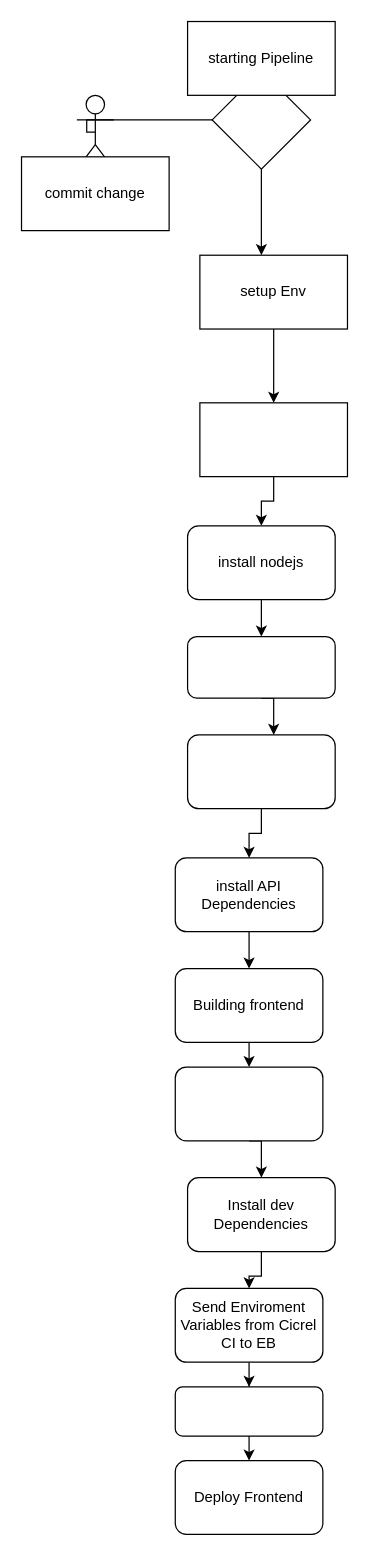
Image size: 369x1556. Some labels were removed from this diagram. The shapes that lost their labels are listed below. From the top down, each one's centre as x and y in pixels, then its label:
the point at 273,439: setup Env Variables
the point at 260,666: look at code
the point at 260,771: install dependencies Fronetend
the point at 248,1103: Building API
the point at 248,1411: Deploy API
